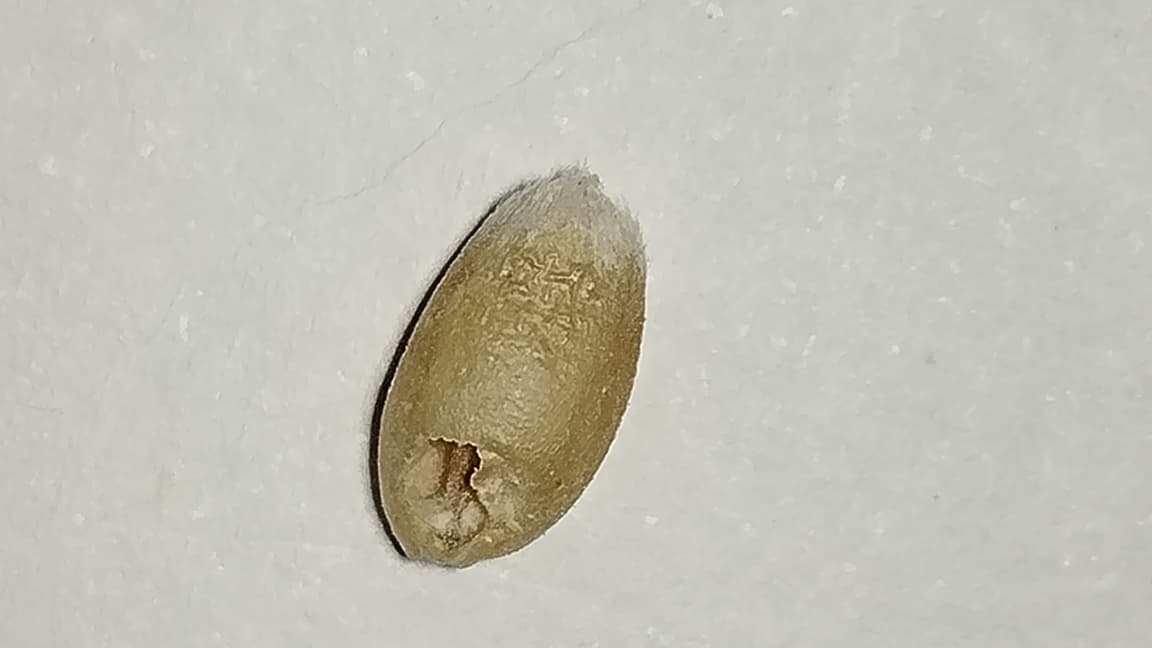damage: (376, 167, 645, 565)
insectdamage: (386, 409, 521, 571)
